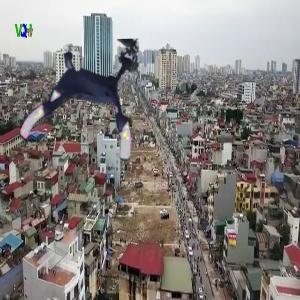drone: (18, 41, 142, 165)
